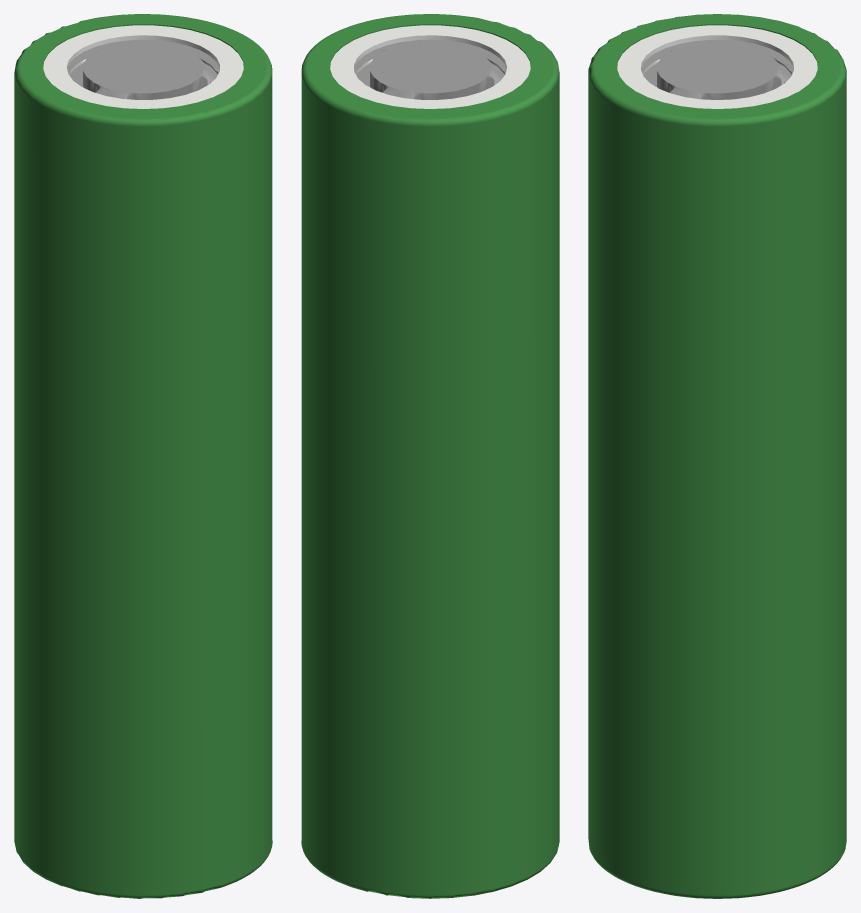
The model's file is cell_cylindrical.glb.
The picture shows the model from 3 angles, left to right: view 1: azimuth 30°, elevation 25°; view 2: azimuth 150°, elevation 25°; view 3: azimuth 270°, elevation 25°; orthographic projection.
Visible parts, largest first — view 1: Cylindrical cell; view 2: Cylindrical cell; view 3: Cylindrical cell.
Part boxes in pixels (left/top/right/bottom): Cylindrical cell: left=14, top=14, right=272, bottom=898; Cylindrical cell: left=301, top=14, right=559, bottom=898; Cylindrical cell: left=588, top=14, right=846, bottom=898.
Size of the model in its own units: 0.0212 by 0.0706 by 0.0212.
